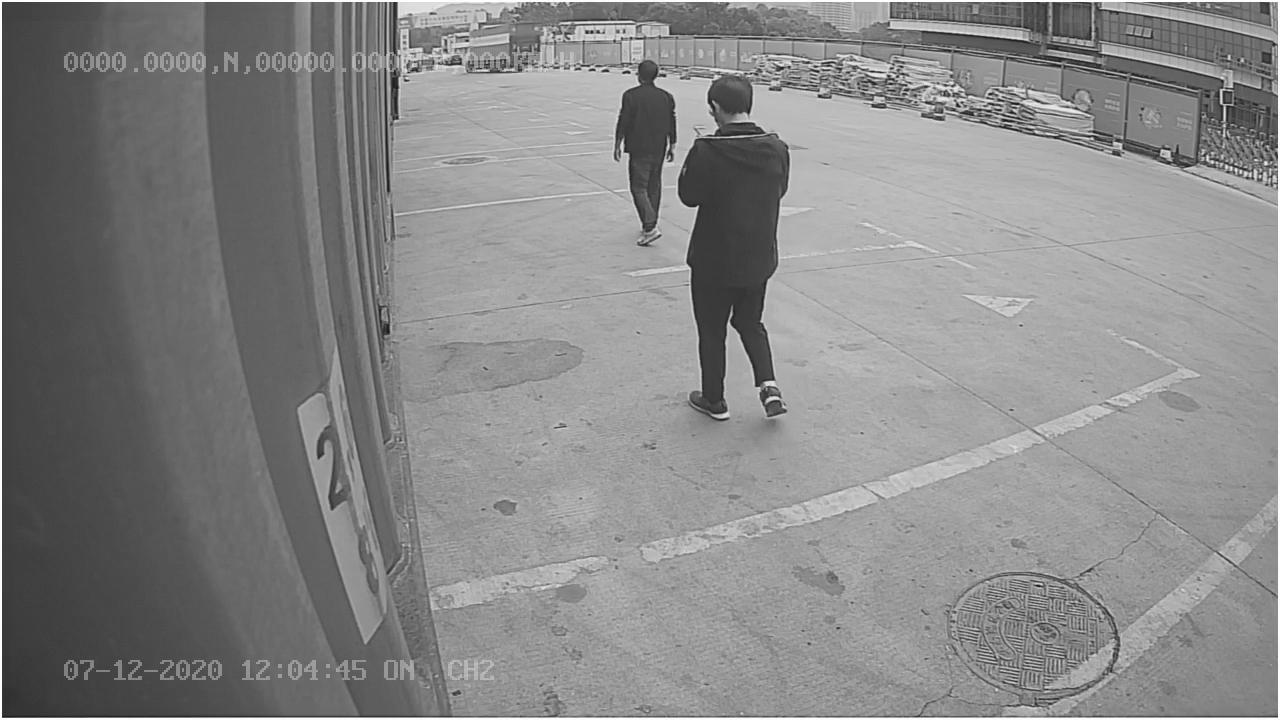person: (677, 70, 792, 418)
